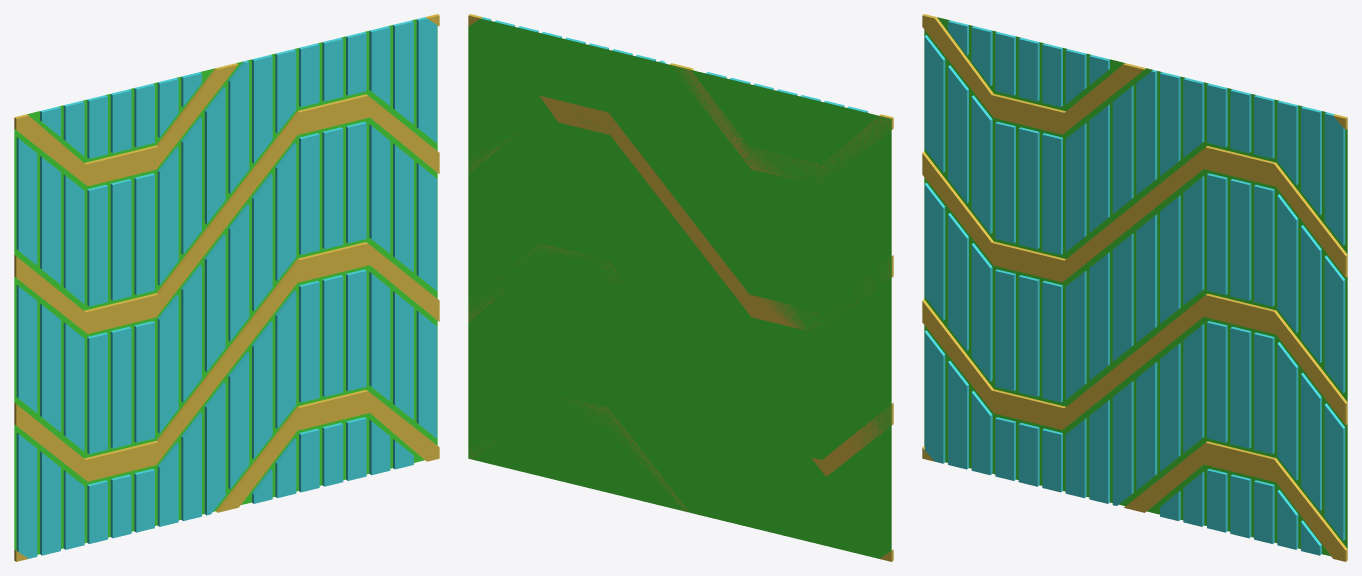
Rendered from Wall_47.fbx.
3 renders of one model, left to right at view 1: azimuth 30°, elevation 25°; view 2: azimuth 150°, elevation 25°; view 3: azimuth 330°, elevation 25°, orthographic.
Visible parts, largest first — view 1: Wall_47; view 2: Wall_47; view 3: Wall_47.
Boxes of the visible parts, <box> form: Wall_47: <box>14,14,439,561</box>; Wall_47: <box>468,14,893,561</box>; Wall_47: <box>922,14,1347,561</box>.
Bounding box in the file's own units: 457 × 457 × 3.81.
